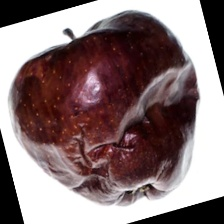apple: (62, 23, 197, 179)
